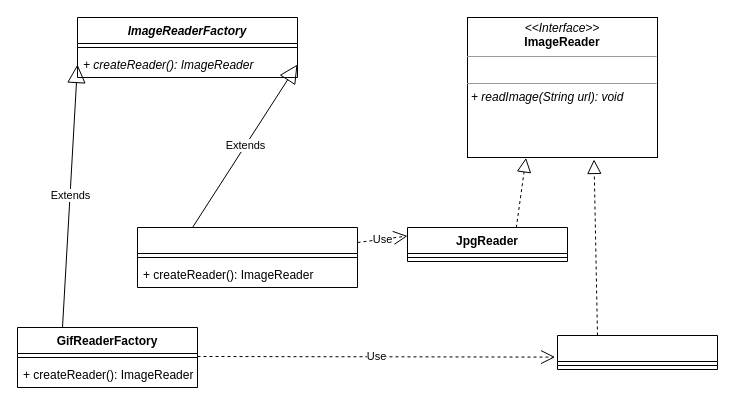
Some shapes in this 735 by 408 pixel diagram are drawn without their labels. Each missing label, with the box of its shape:
GifReader: (556, 334, 718, 370)
JpgReaderFactory: (136, 226, 358, 288)
